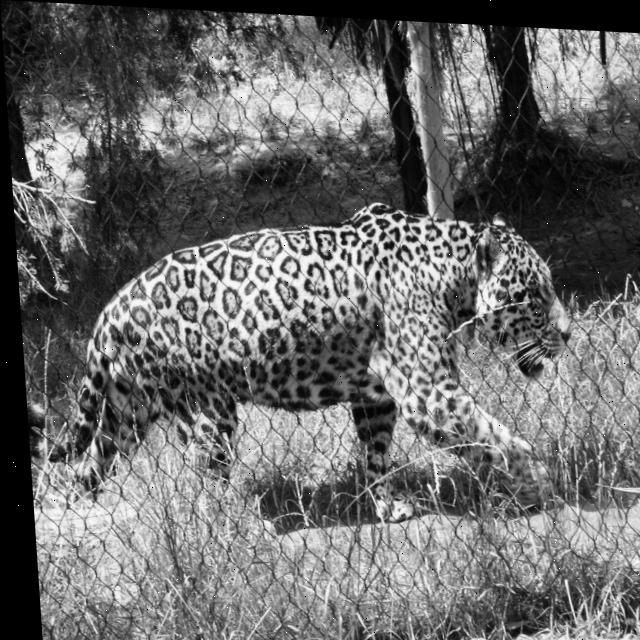Leopard: (13, 181, 587, 535)
